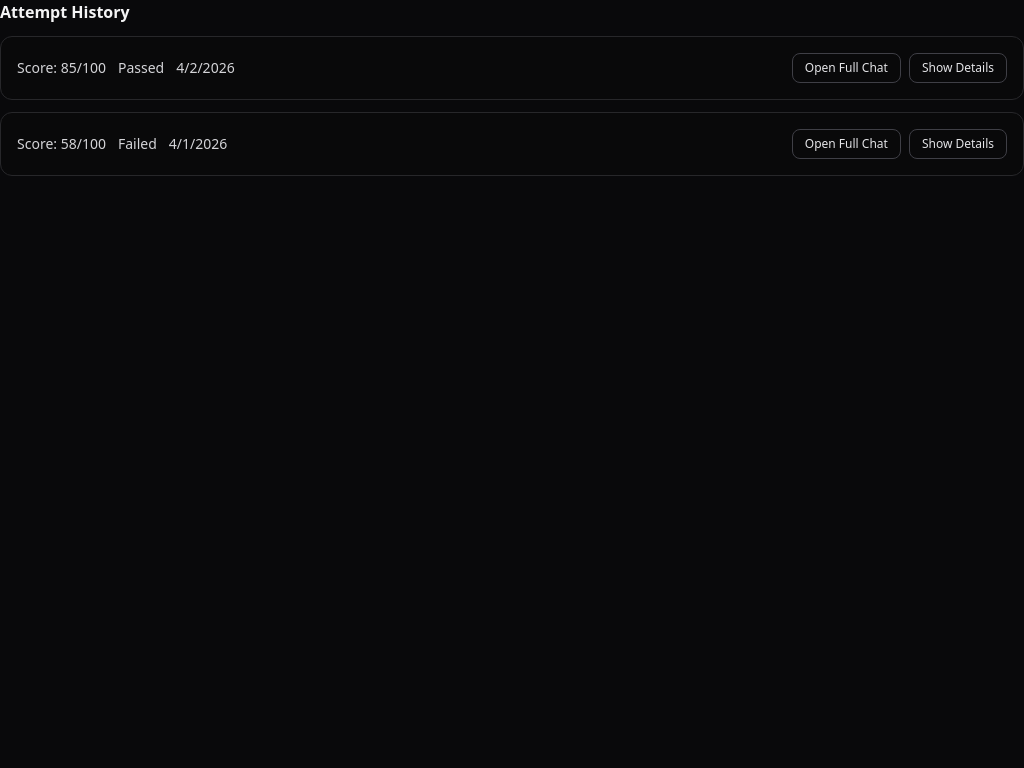
Test: AttemptHistory › lists attempts and expands selected evaluation
Expected: the text "Score: 85/100" is shown, [17,58,106,77]
Expected: the text "Score: 58/100" is shown, [17,134,106,153]
Click the button "Show Details" in the row of "4/2/2026".
click(958, 68)  # box [909,53,1007,83]
(page scrolled)
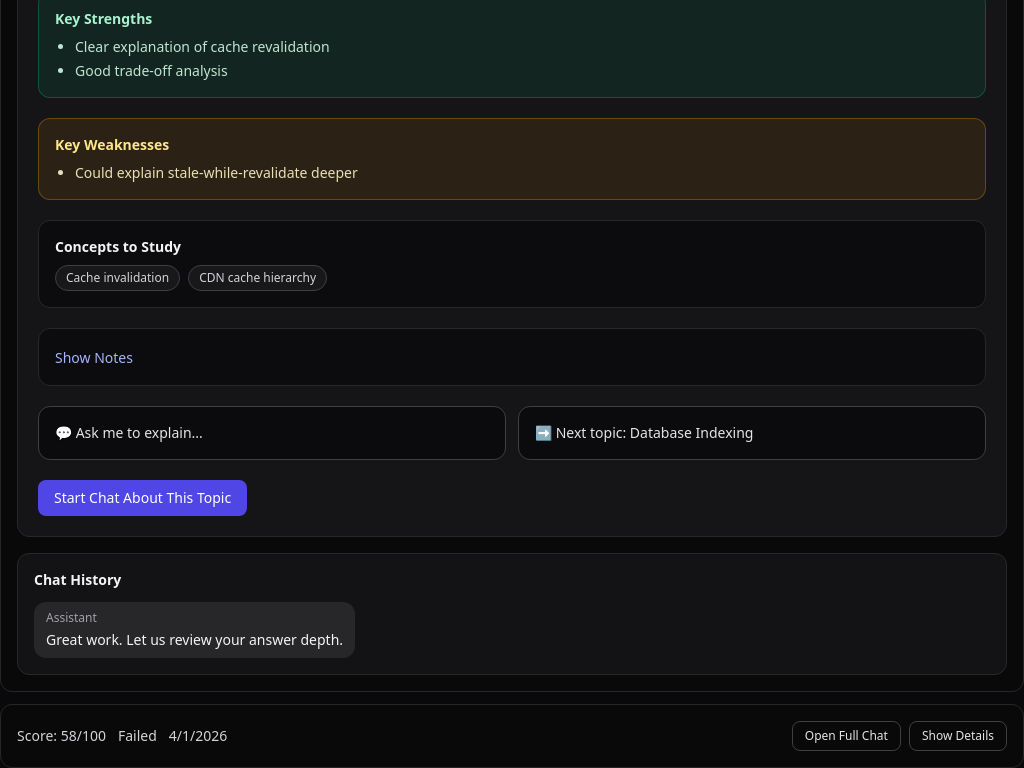
Expected: the heading "Key Strengths" is shown, [55,9,152,28]
Expected: the heading "Chat History" is shown, [34,570,121,589]
Expected: the text "Great work. Let us review your answer depth." is shown, [46,630,343,650]
